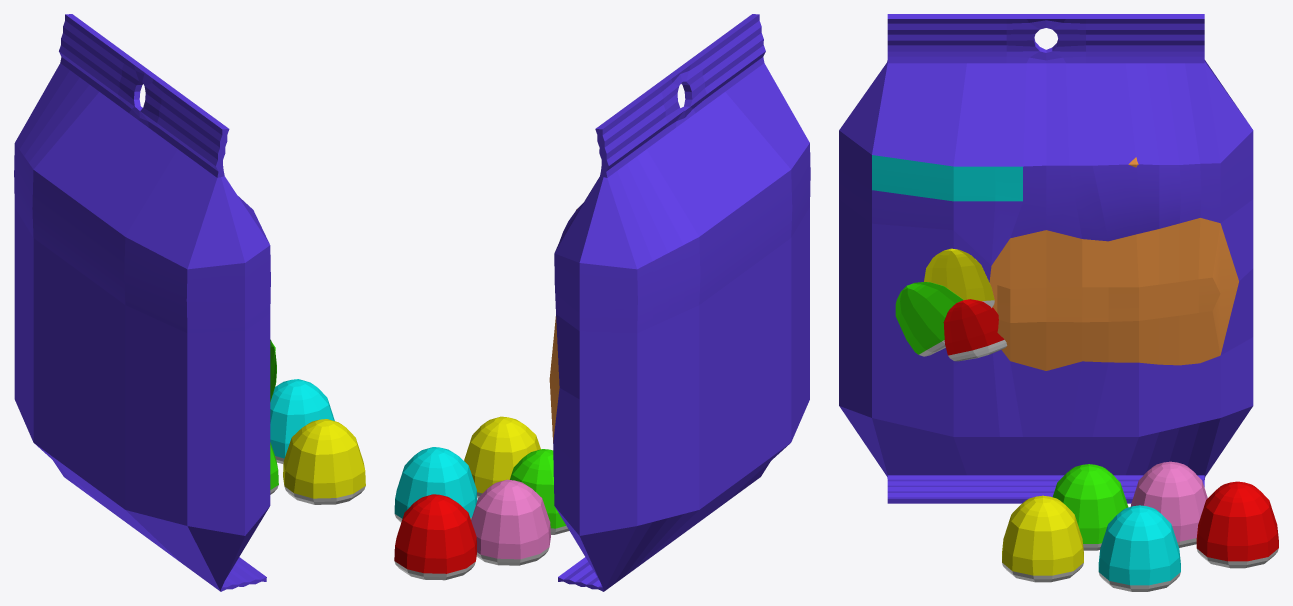
The model's file is Gomitas.fbx.
The picture shows the model from 3 angles, left to right: view 1: azimuth 30°, elevation 25°; view 2: azimuth 150°, elevation 25°; view 3: azimuth 270°, elevation 25°; orthographic projection.
Visible parts, largest first — view 1: pasted__pCube2, pasted__pCube43, pasted__pCube39; view 2: pasted__pCube2, pCube9, pasted__pCube46, pasted__pCube39, pasted__pCube43, pasted__pCube45; view 3: pasted__pCube2, pCube9, pasted__pCube39, pasted__pCube43, pasted__pCube46, pasted__pCube45, pasted__pCube37, pasted__pCube36, pasted__pCube35.
Boxes of the visible parts, left/top/right/bottom form: pasted__pCube2: left=14, top=14, right=270, bottom=591; pasted__pCube43: left=283, top=419, right=365, bottom=504; pasted__pCube39: left=270, top=379, right=334, bottom=463; pasted__pCube2: left=549, top=14, right=810, bottom=591; pCube9: left=394, top=494, right=476, bottom=580; pasted__pCube46: left=471, top=479, right=550, bottom=565; pasted__pCube39: left=394, top=447, right=477, bottom=522; pasted__pCube43: left=464, top=416, right=540, bottom=497; pasted__pCube45: left=510, top=449, right=569, bottom=534; pasted__pCube2: left=839, top=14, right=1253, bottom=503; pCube9: left=1196, top=481, right=1278, bottom=568; pasted__pCube39: left=1098, top=505, right=1180, bottom=591; pasted__pCube43: left=1002, top=495, right=1083, bottom=582; pasted__pCube46: left=1130, top=461, right=1207, bottom=547; pasted__pCube45: left=1052, top=464, right=1128, bottom=550; pasted__pCube37: left=895, top=282, right=963, bottom=356; pasted__pCube36: left=943, top=299, right=1007, bottom=361; pasted__pCube35: left=924, top=248, right=994, bottom=307.
Bounding box in the file's own units: 8.22 × 12.17 × 10.36.
